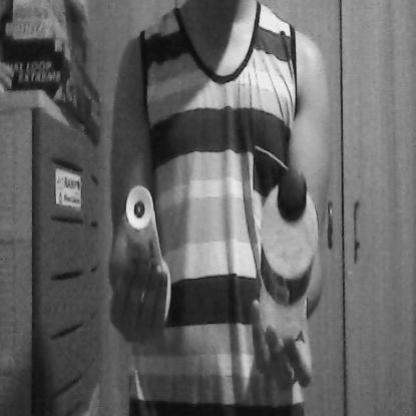Plastic Bottle: (251, 148, 327, 355)
